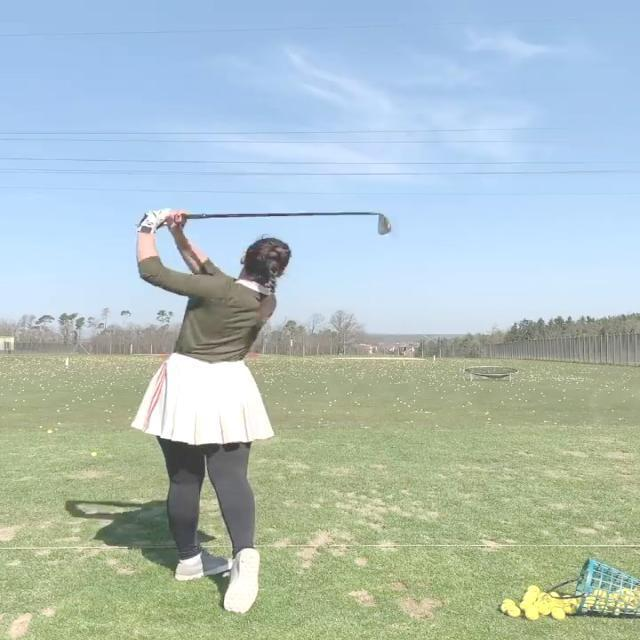ClubHead: (379, 216, 392, 236)
GolfBall: (552, 608, 566, 618), (526, 610, 538, 620), (564, 602, 576, 612), (508, 607, 521, 616), (528, 585, 539, 594), (540, 605, 552, 613), (501, 603, 512, 611), (521, 602, 532, 609), (504, 599, 514, 606), (524, 595, 534, 602)
